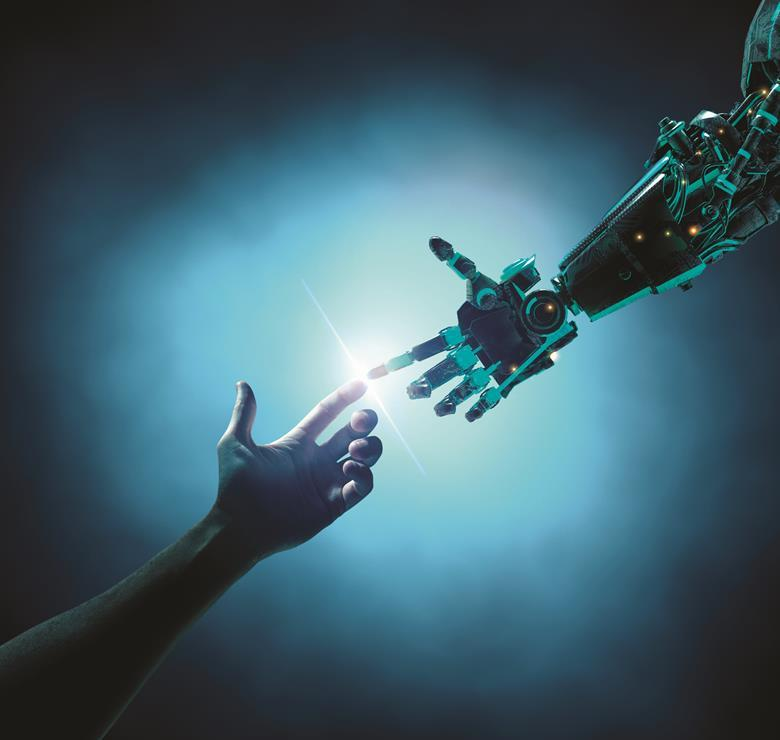finger: (373, 324, 454, 381), (291, 374, 370, 426), (403, 351, 474, 406), (333, 402, 380, 466), (436, 369, 484, 424), (336, 433, 392, 479), (335, 462, 380, 513), (467, 387, 497, 433)
